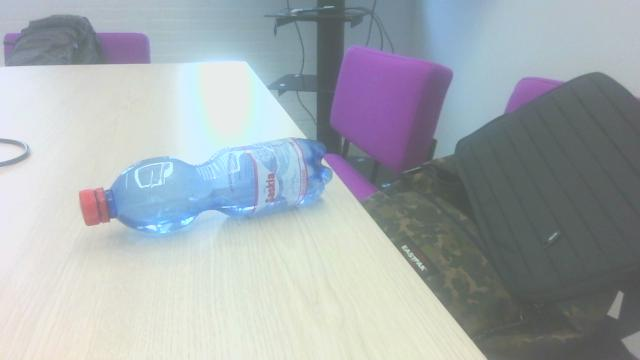plastic_bottle: (77, 133, 335, 239)
